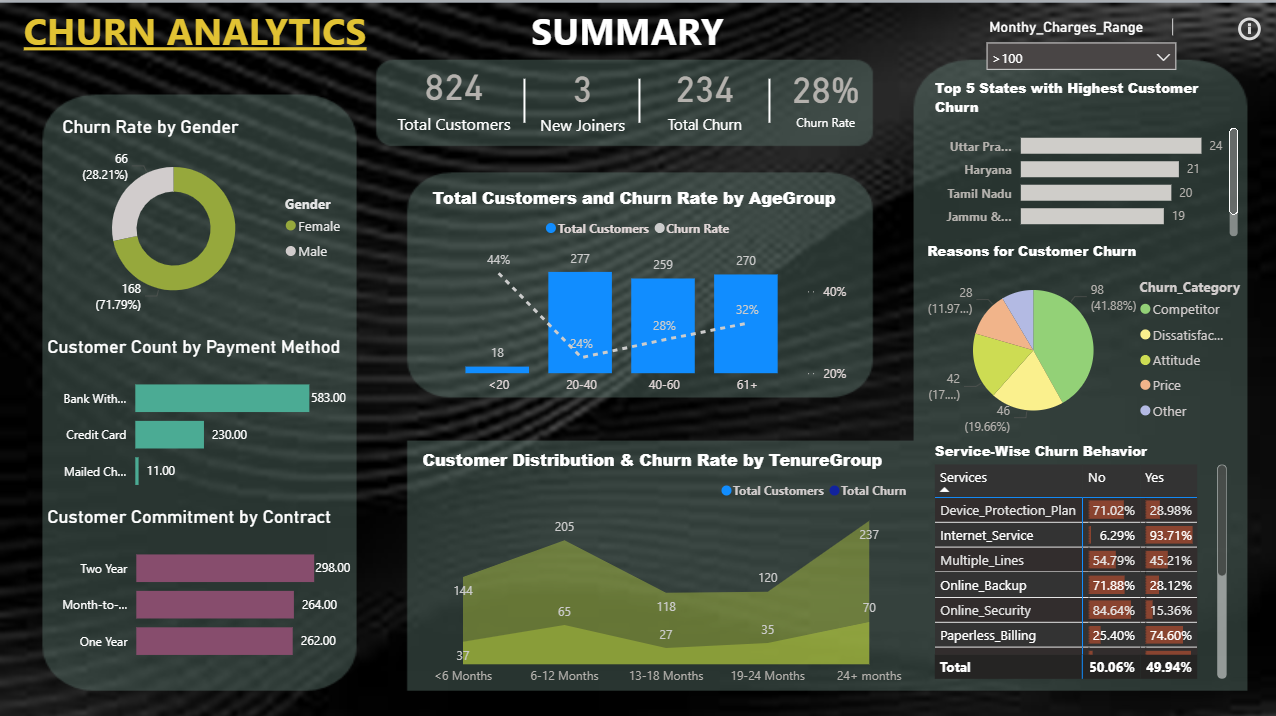

The dashboard page shown, as its layout file describes it:
{"tool":"powerbi","page":{"name":"Summary_Page","canvas":[1280,720],"ordinal":0},"visuals":[{"type":"textbox","box":[18.8,0,911.2,65],"z":0},{"type":"shape","box":[494.3,78.6,61.4,44.3],"z":1000},{"type":"shape","box":[608.6,78.6,61.4,44.3],"z":2000},{"type":"shape","box":[738.6,78.6,61.4,44.3],"z":3000},{"type":"card","fields":{"Values":["MeasureTable.New Joiners"]},"box":[525.7,48.6,112.9,95.7],"z":4000},{"type":"card","fields":{"Values":["MeasureTable.Total Churn"]},"box":[640,48.6,130,95.7],"z":5000},{"type":"card","fields":{"Values":["MeasureTable.Churn Rate"]},"box":[768.6,47.1,114.3,95.7],"z":6000},{"type":"donutChart","title":"Churn Rate by Gender","fields":{"Category":["prod_Churn.Gender"],"Y":["MeasureTable.Total Churn"]},"box":[57.1,115.7,298.6,204.3],"z":7000},{"type":"card","fields":{"Values":["MeasureTable.Total Customers"]},"box":[385.7,47.1,135.7,95.7],"z":8000},{"type":"lineStackedColumnComboChart","fields":{"Category":["Mapping_Ages.AgeGroup"],"Y2":["MeasureTable.Churn Rate"],"Y":["MeasureTable.Total Customers"]},"box":[427.1,185.7,424.3,217.1],"z":9000},{"type":"clusteredBarChart","title":"Customer Count by Payment Method","fields":{"Y":["MeasureTable.Total Customers"],"Category":["prod_Churn.Payment_Method"]},"box":[42.9,335.7,308.6,170],"z":10000},{"type":"lineChart","title":"Customer Distribution & Churn Rate by TenureGroup","fields":{"Category":["Mapping_TenureGroup.TenureGroup"],"Y":["MeasureTable.Total Customers","MeasureTable.Total Churn"]},"box":[417.1,448.6,498.6,245.7],"z":11000},{"type":"clusteredBarChart","title":"Top 5 States with Highest Customer Churn","fields":{"Y":["MeasureTable.Total Churn"],"Category":["prod_Churn.State"]},"box":[930,78.6,312.9,162.9],"z":12000},{"type":"actionButton","box":[1234.3,10,31.4,38.6],"z":13000},{"type":"pieChart","title":"Reasons for Customer Churn","fields":{"Category":["prod_Churn.Churn_Category"],"Y":["MeasureTable.Total Churn"]},"box":[922.9,241.4,330,200],"z":14000},{"type":"pivotTable","title":"Service-Wise Churn Behavior","fields":{"Rows":["Mapping_Services.Services"],"Columns":["Mapping_Services.Status"],"Values":["Sum(Mapping_Services.Is_Churned)"]},"box":[930,441.4,301.4,242.9],"z":15000},{"type":"clusteredBarChart","title":"Customer Commitment by Contract","fields":{"Y":["MeasureTable.Total Customers"],"Category":["prod_Churn.Contract"]},"box":[42.9,505.7,312.9,170],"z":16000},{"type":"slicer","fields":{"Values":["prod_Churn.Monthy_Charges_Range"]},"box":[975.7,14.3,210,67.1],"z":17000}]}

Visuals, with their boxes in screenshot pixels (x1, y1, x2, y2), scaled from the page's 1280x720 canvas onto the 1276x716 screenshot:
textbox: 19 0 927 65
shape: 493 78 554 122
shape: 607 78 668 122
shape: 736 78 798 122
card - MeasureTable.New Joiners: 524 48 637 143
card - MeasureTable.Total Churn: 638 48 768 143
card - MeasureTable.Churn Rate: 766 47 880 142
"Churn Rate by Gender" donutChart: 57 115 355 318
card - MeasureTable.Total Customers: 384 47 520 142
lineStackedColumnComboChart - Mapping_Ages.AgeGroup x MeasureTable.Churn Rate: 426 185 849 401
"Customer Count by Payment Method" clusteredBarChart: 43 334 350 503
"Customer Distribution & Churn Rate by TenureGroup" lineChart: 416 446 913 690
"Top 5 States with Highest Customer Churn" clusteredBarChart: 927 78 1239 240
actionButton: 1230 10 1262 48
"Reasons for Customer Churn" pieChart: 920 240 1249 439
"Service-Wise Churn Behavior" pivotTable: 927 439 1228 680
"Customer Commitment by Contract" clusteredBarChart: 43 503 355 672
slicer - prod_Churn.Monthy_Charges_Range: 973 14 1182 81
